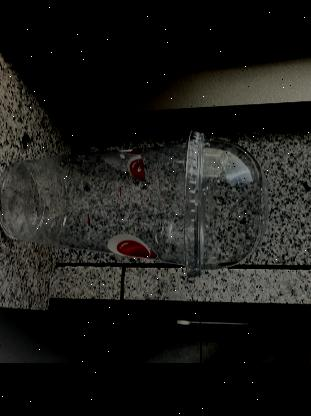Others: (0, 128, 266, 282), (182, 132, 263, 281)
